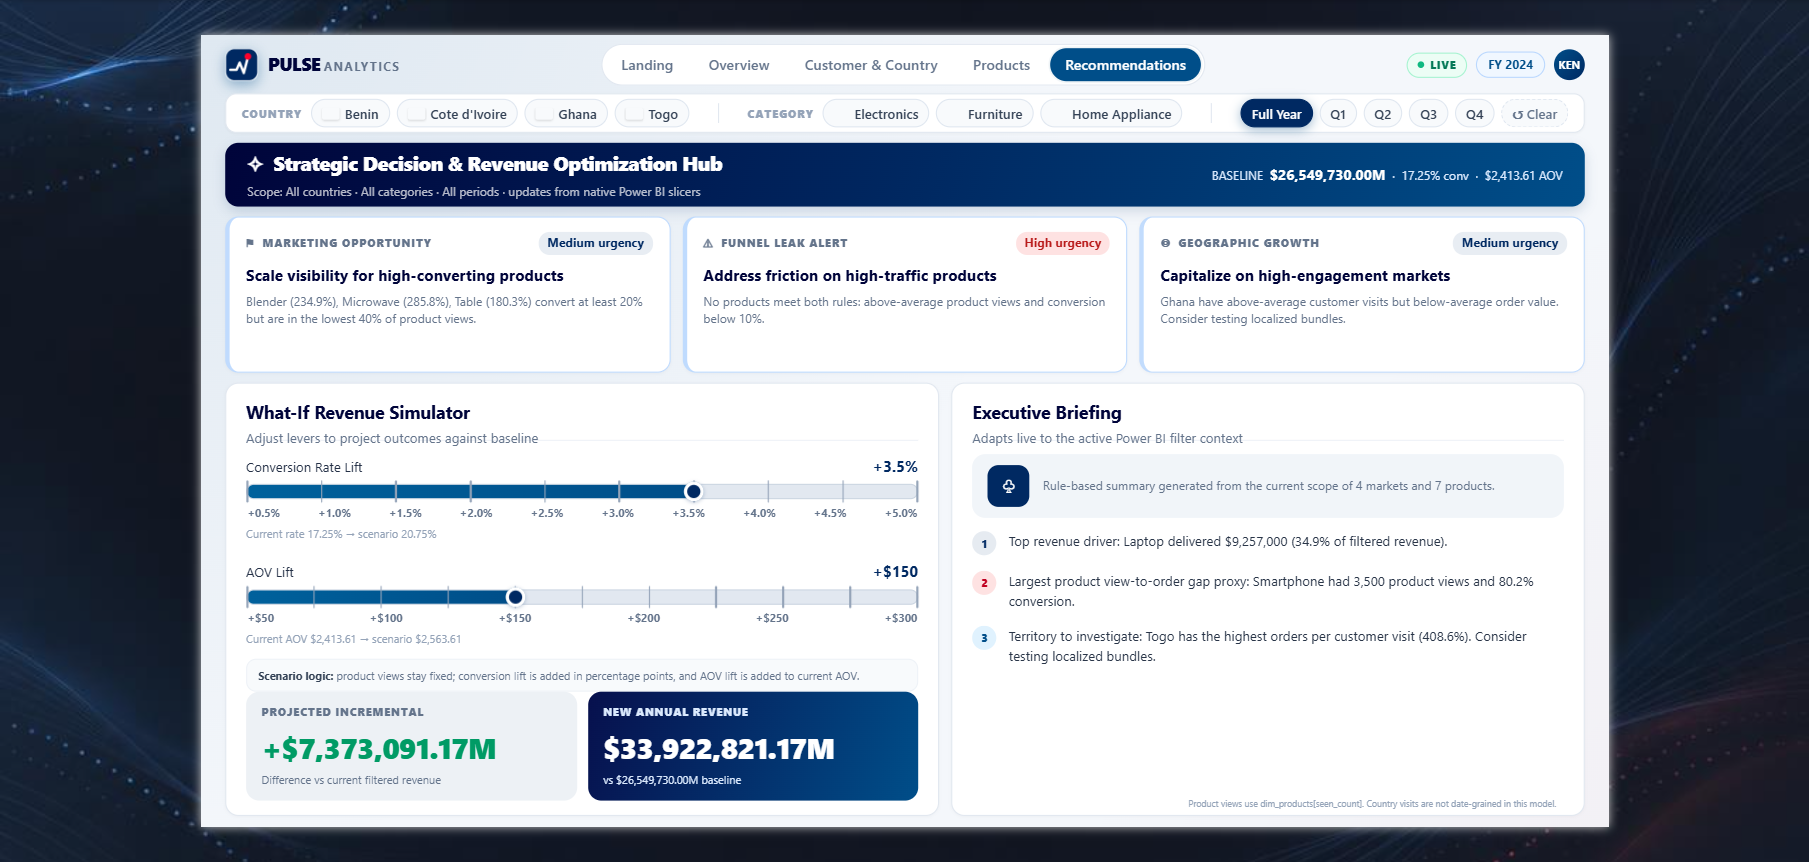

What the dashboard file says about the page in this screenshot:
{"tool":"powerbi","page":{"name":"Recommendation Page","canvas":[1280,720],"ordinal":4},"visuals":[{"type":"htmlContent443BE3AD55E043BF878BED274D3A6855","fields":{"content":["HTML_Visuals.Recommendations_Page"]},"box":[0,0,1280,720],"z":0},{"type":"advancedSlicerVisual","fields":{"Values":["conversion_lift.Value"]},"box":[40,400,616,40],"z":1},{"type":"advancedSlicerVisual","fields":{"Values":["aov_lift.Value"]},"box":[40,496,696,48],"z":2}]}

Visuals, with their boxes on the page's 1280x720 design canvas (x1, y1, x2, y2). These are canvas units, not pixel positions in the 1809x862 screenshot, which may show the page scaled, cropped or inside an application window:
htmlContent443BE3AD55E043BF878BED274D3A6855 - HTML_Visuals.Recommendations_Page: {"left": 0, "top": 0, "right": 1280, "bottom": 720}
advancedSlicerVisual - conversion_lift.Value: {"left": 40, "top": 400, "right": 656, "bottom": 440}
advancedSlicerVisual - aov_lift.Value: {"left": 40, "top": 496, "right": 736, "bottom": 544}
